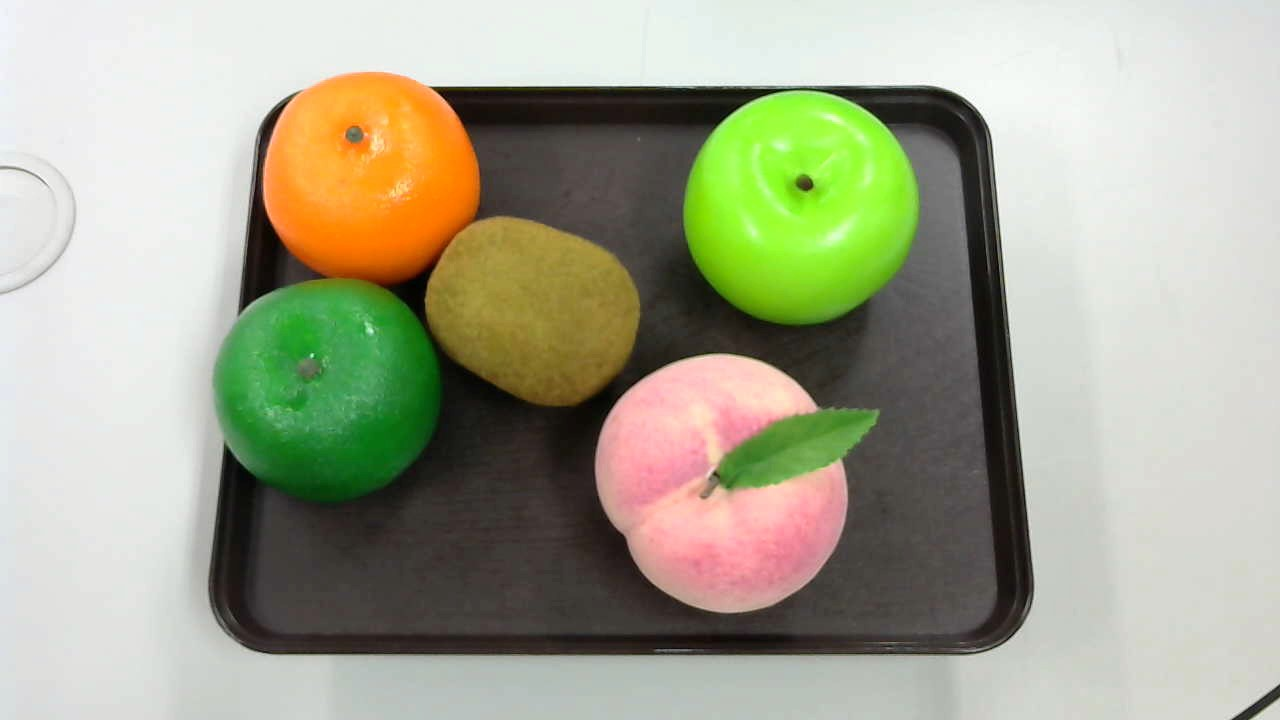green apple: (682, 93, 928, 325)
green orange: (209, 276, 442, 497)
kiwi fruit: (417, 214, 644, 405)
orange: (258, 67, 486, 300)
peach: (595, 351, 884, 609)
